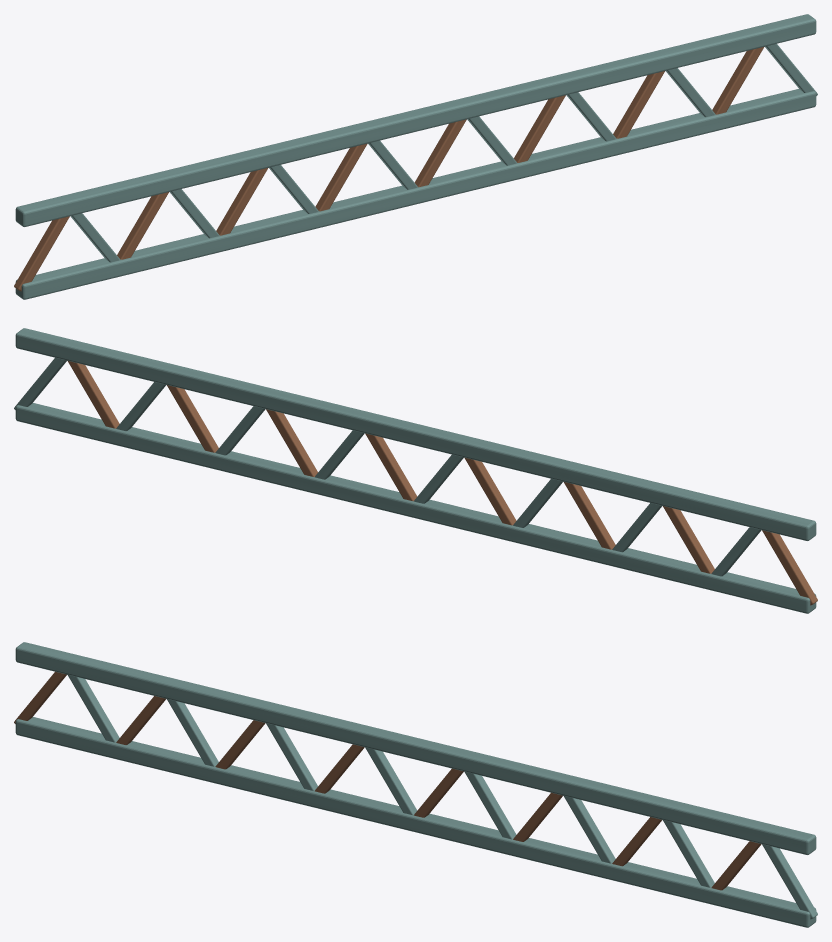
File: Roof_Truss_8m.glb
3 views of the same model, one above another, from view 1: azimuth 30°, elevation 25°; view 2: azimuth 150°, elevation 25°; view 3: azimuth 330°, elevation 25° (orthographic).
Visible parts, largest first — view 1: Roof_Truss_8m; view 2: Roof_Truss_8m; view 3: Roof_Truss_8m.
Part boxes in pixels (x1,y1,x2,y2): Roof_Truss_8m: [14, 14, 817, 299]; Roof_Truss_8m: [14, 328, 817, 613]; Roof_Truss_8m: [14, 642, 817, 927].
Bounding box in the file's own units: 8.06 × 0.85 × 0.15.
Materials: 2 (2 with a texture image).
